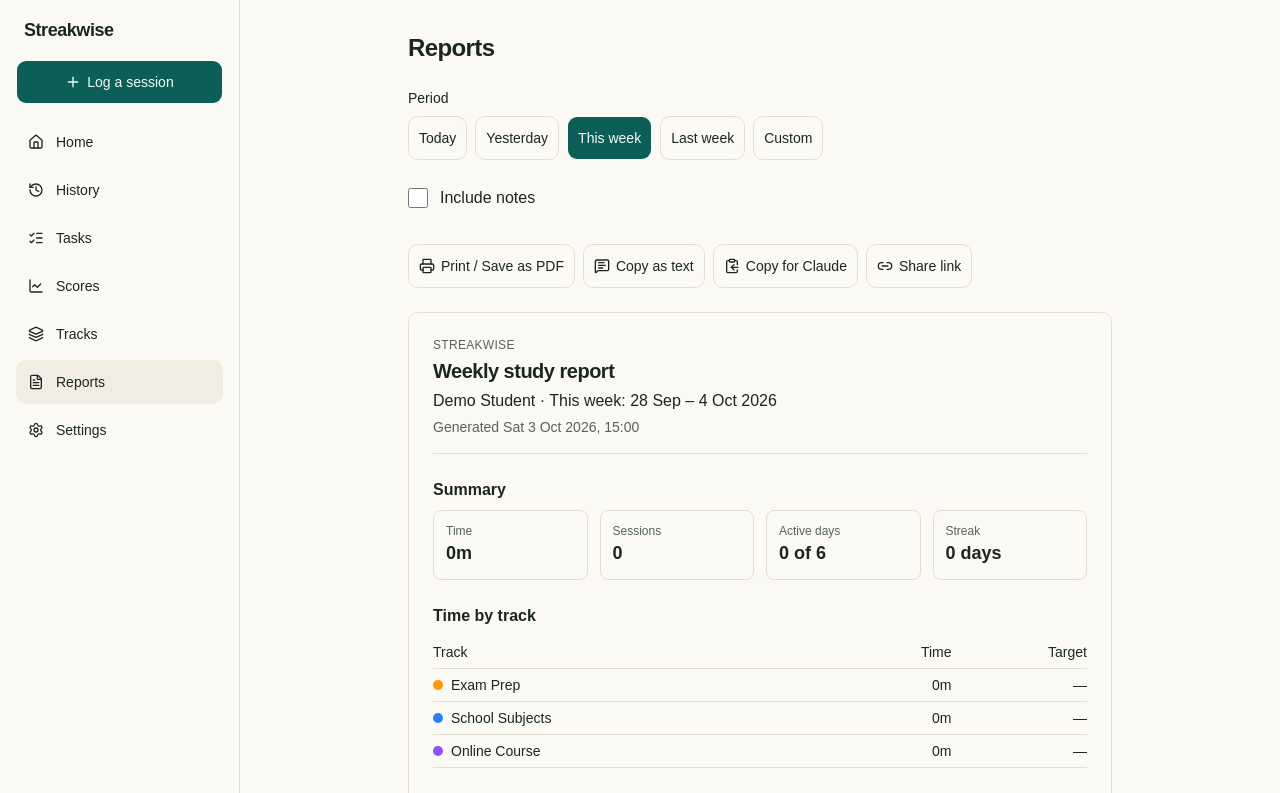
Reports (REP-1–8) › shows this week’s report and switches periods
expect the heading "Weekly study report" is shown: met, box [433,360,614,382]
expect the text "Demo Student · This week: 28 Sep – 4 Oct 2026" is shown: met, box [433,392,777,409]
Click the button "Yesterday".
click(517, 138)  # box [475,116,559,160]
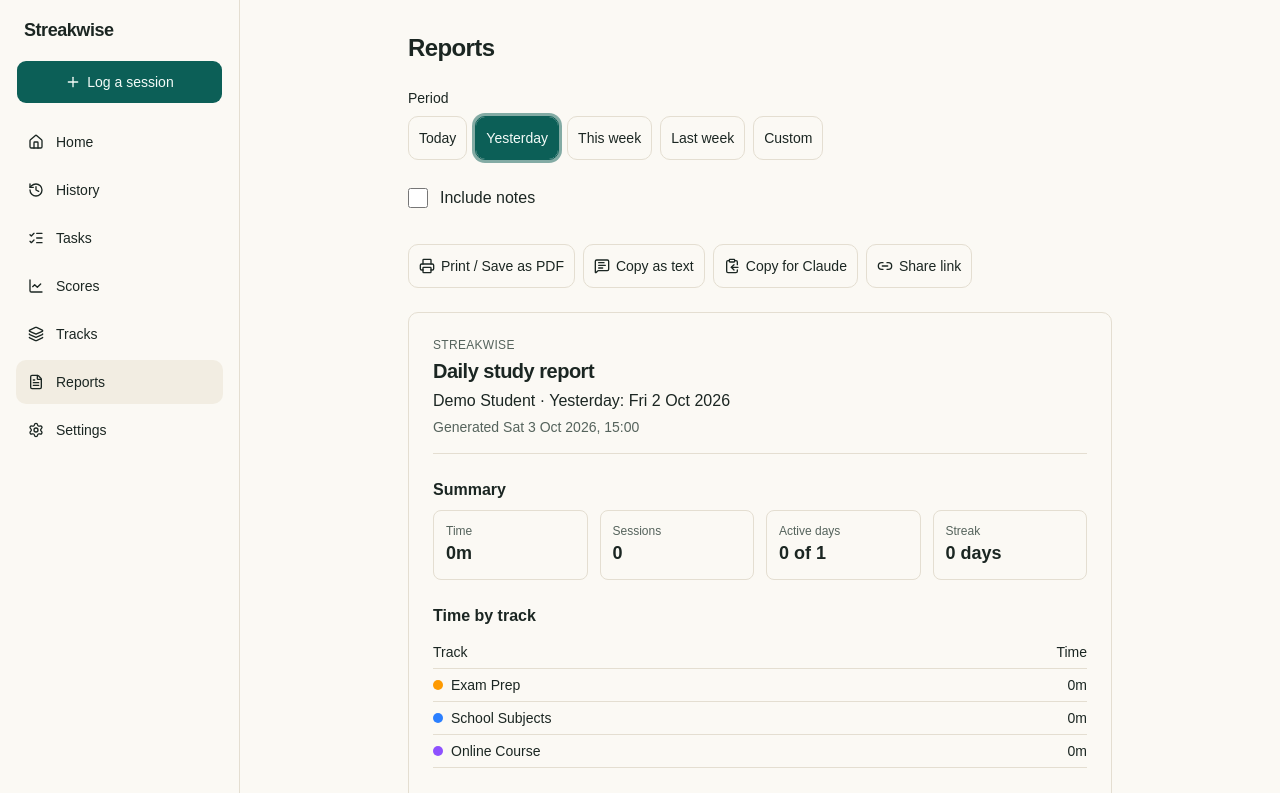
expect the heading "Daily study report" is shown: met, box [433,360,594,382]
expect the text "Demo Student · Yesterday: Fri 2 Oct 2026" is shown: met, box [433,392,730,409]
Click the button "Custom".
click(788, 138)  # box [753,116,823,160]
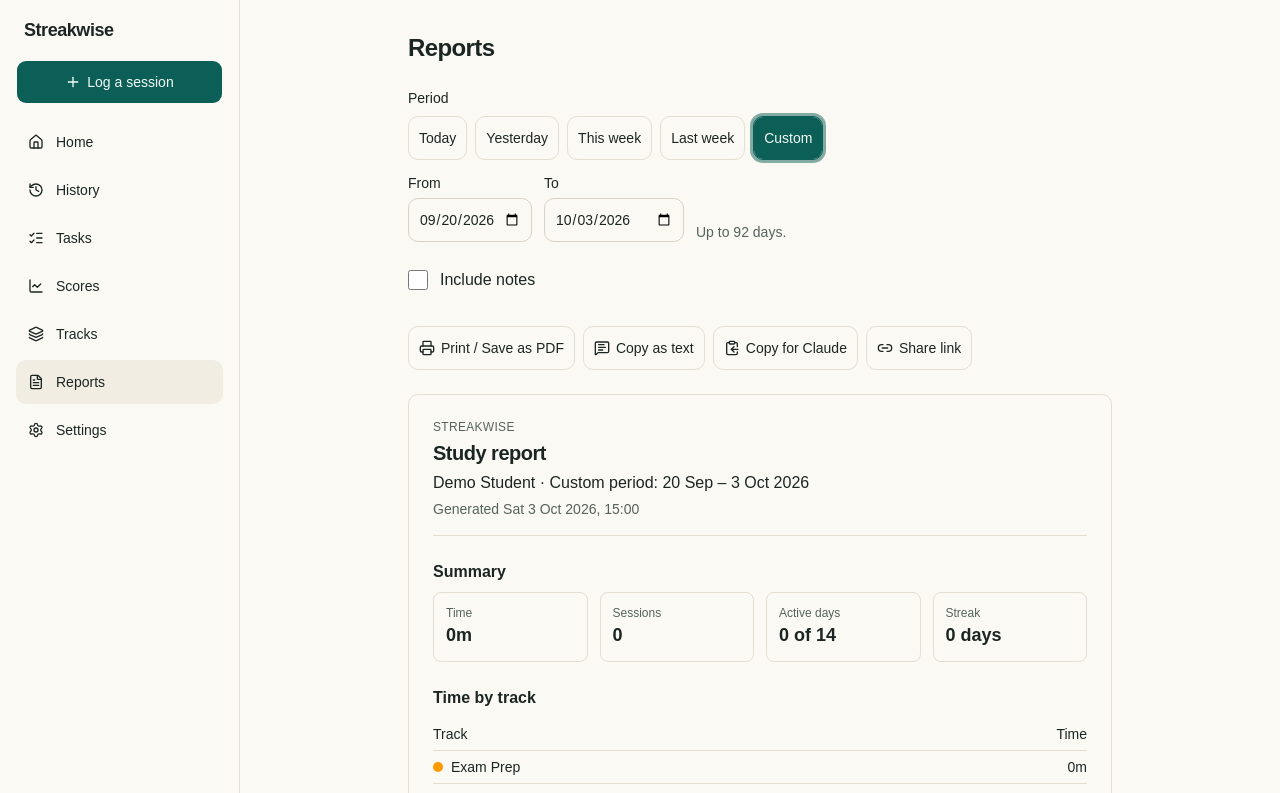
expect the heading "Study report" is shown: met, box [433,442,546,464]
expect the date field labelled "From" is shown: met, box [408,198,532,242]
